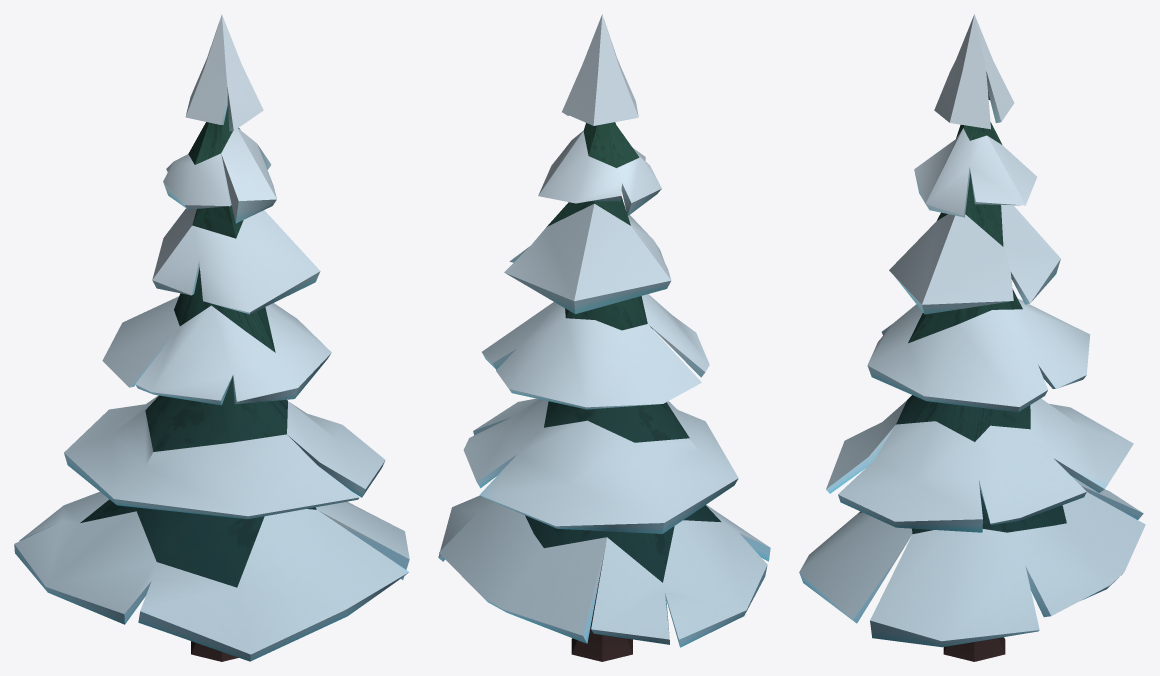
File: SnowTree1.fbx
3 renders of one model, left to right at view 1: azimuth 30°, elevation 25°; view 2: azimuth 150°, elevation 25°; view 3: azimuth 270°, elevation 25°, orthographic.
Parts seen in each view (by area): view 1: SnowTree1; view 2: SnowTree1; view 3: SnowTree1.
Part boxes in pixels (x1=…): SnowTree1: x1=14, y1=14, x2=409, y2=661; SnowTree1: x1=438, y1=14, x2=770, y2=661; SnowTree1: x1=799, y1=14, x2=1145, y2=661.
Bounding box in the file's own units: 750 × 1388 × 689.
